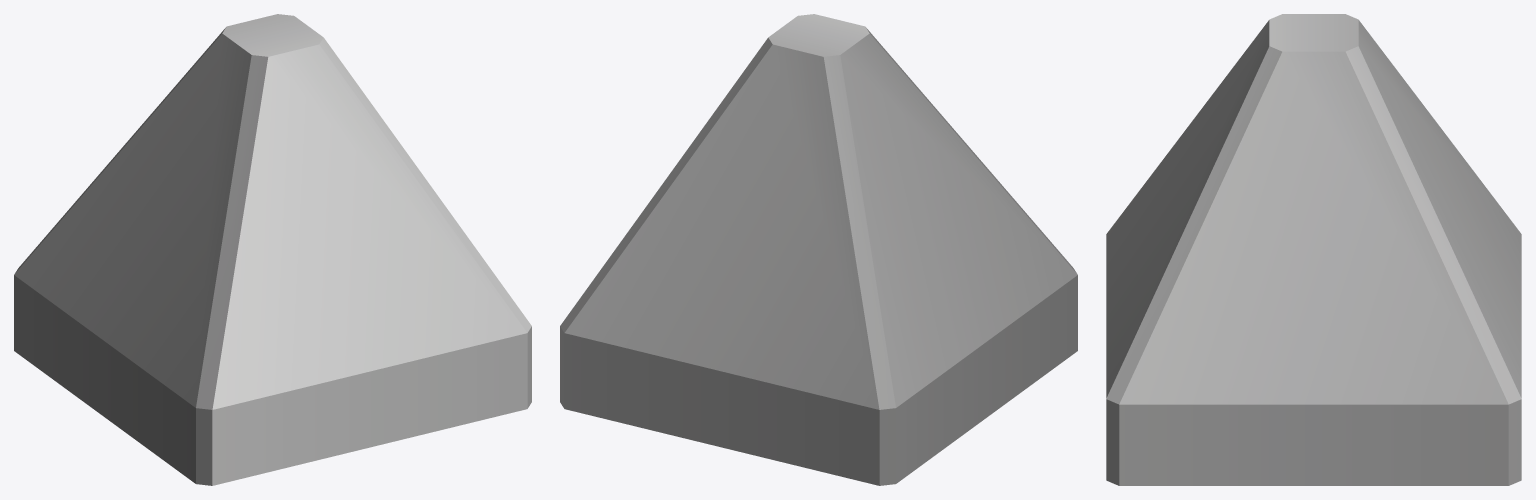
File: Obstacle_Dragons_Teeth_01.fbx
3 views of the same model, side by side, from view 1: azimuth 30°, elevation 25°; view 2: azimuth 150°, elevation 25°; view 3: azimuth 270°, elevation 25° (orthographic). The views are drawn at different scales.
Visible parts, largest first — view 1: Obstacle_Dragons_Teeth_01; view 2: Obstacle_Dragons_Teeth_01; view 3: Obstacle_Dragons_Teeth_01.
Boxes of the visible parts, left/top/right/bottom form: Obstacle_Dragons_Teeth_01: left=14, top=14, right=531, bottom=485; Obstacle_Dragons_Teeth_01: left=560, top=14, right=1077, bottom=485; Obstacle_Dragons_Teeth_01: left=1106, top=14, right=1521, bottom=485.
Bounding box in the file's own units: 52.04 × 50.48 × 52.04.
